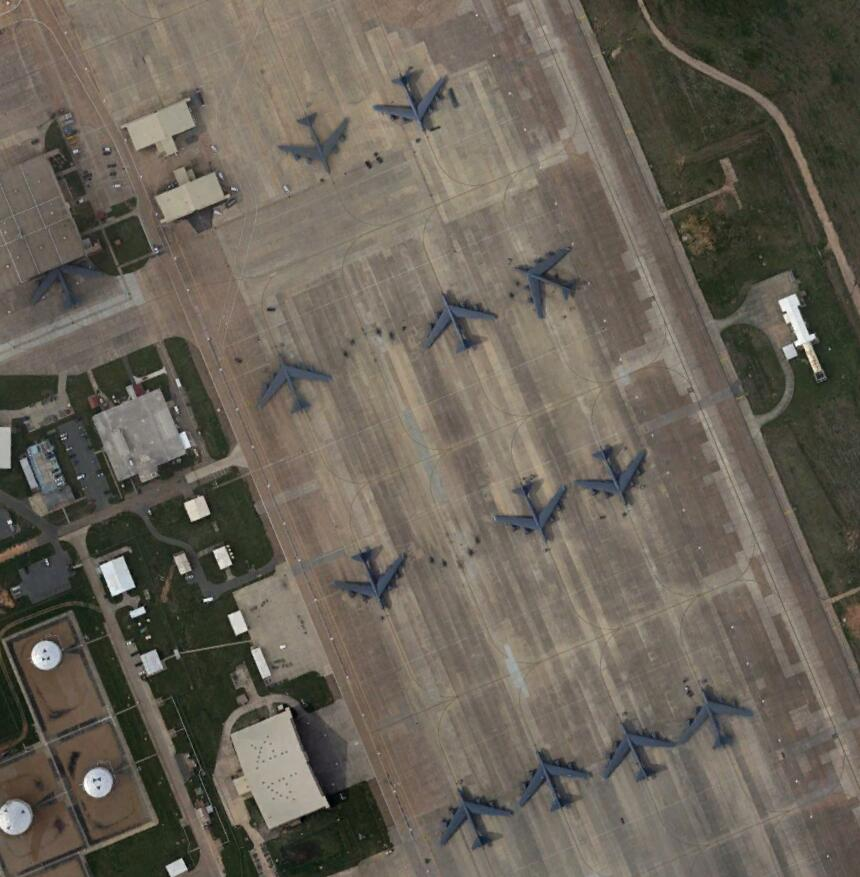A8: (598, 705, 678, 785), (370, 67, 455, 139), (489, 471, 570, 546), (414, 286, 502, 355), (513, 236, 581, 322), (516, 744, 595, 817), (253, 350, 336, 419), (329, 545, 413, 613), (437, 780, 515, 852), (274, 111, 355, 180), (681, 680, 755, 754), (575, 442, 652, 511)
